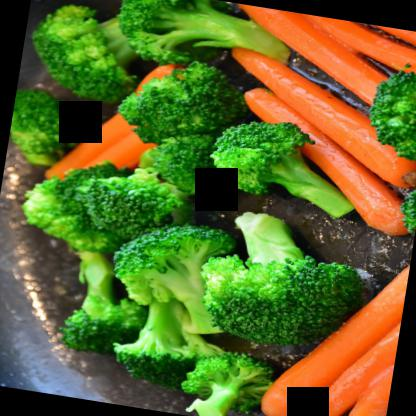broccoli: (188, 207, 372, 354), (107, 56, 255, 202), (206, 112, 360, 218), (107, 216, 240, 334), (112, 0, 299, 80), (41, 243, 156, 360), (108, 288, 226, 393), (22, 0, 140, 102), (79, 162, 193, 247), (5, 84, 87, 168), (183, 349, 284, 415), (365, 64, 415, 158)
carrot: (213, 40, 415, 192), (259, 222, 413, 415), (222, 85, 415, 236), (216, 1, 415, 119)
